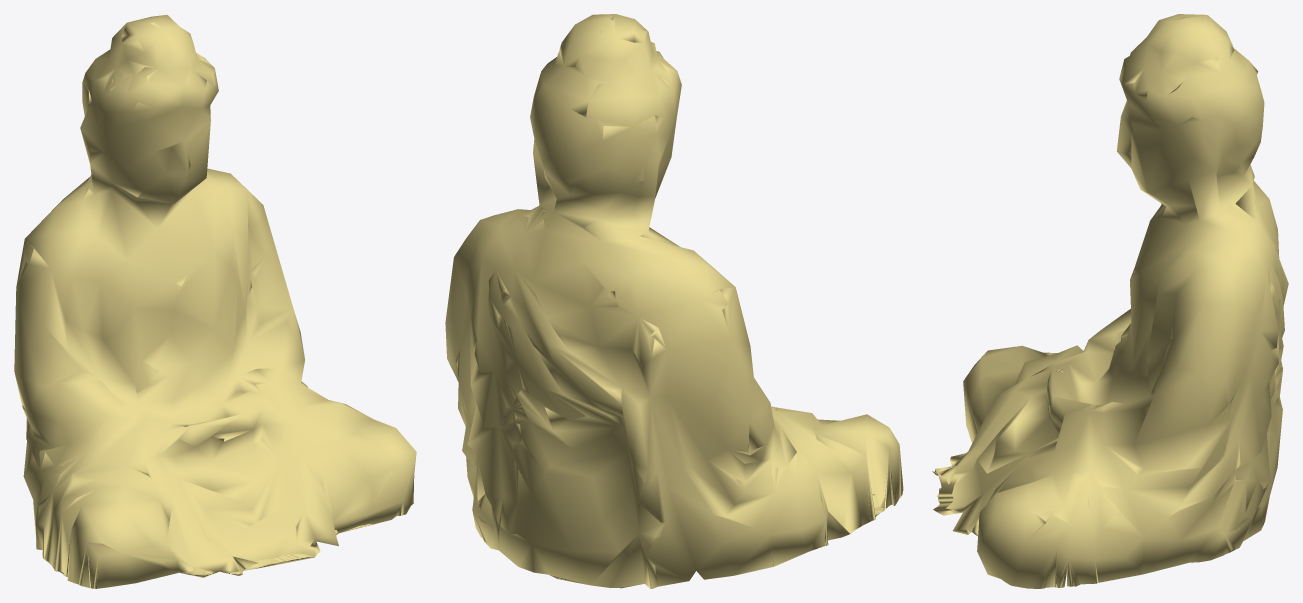
The model's file is far.glb.
3 renders of one model, left to right at view 1: azimuth 30°, elevation 25°; view 2: azimuth 150°, elevation 25°; view 3: azimuth 270°, elevation 25°, orthographic. The views are drawn at different scales.
Parts seen in each view (by area): view 1: statue-04; view 2: statue-04; view 3: statue-04.
Boxes of the visible parts, box(x1,y1,x2,y2) form: statue-04: box(14, 15, 416, 588); statue-04: box(445, 14, 903, 588); statue-04: box(932, 14, 1288, 588).
Bounding box in the file's own units: 0.7807 × 0.9984 × 0.6588.
